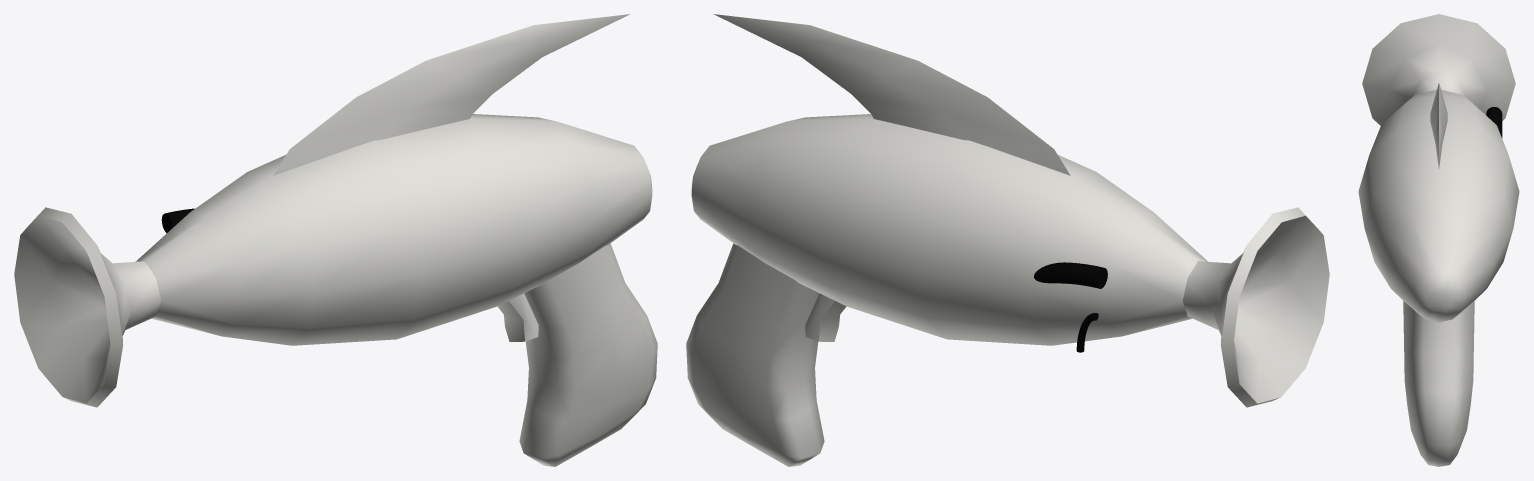
File: gun.glb
3 views of the same model, side by side, from view 1: azimuth 30°, elevation 25°; view 2: azimuth 150°, elevation 25°; view 3: azimuth 270°, elevation 25° (orthographic). The views are drawn at different scales.
Parts seen in each view (by area): view 1: node_id53, node_id51, node_id47, node_id49; view 2: node_id53, node_id51, node_id47, node_id49, mesh_id29; view 3: node_id53, node_id47, node_id51, node_id49, mesh_id29.
Boxes of the visible parts, <box> form: node_id53: <box>135,114,652,345</box>; node_id51: <box>497,243,657,466</box>; node_id47: <box>14,207,160,407</box>; node_id49: <box>273,14,630,175</box>; node_id53: <box>691,114,1208,345</box>; node_id51: <box>686,243,846,466</box>; node_id47: <box>1183,207,1329,407</box>; node_id49: <box>713,14,1070,175</box>; mesh_id29: <box>1034,262,1107,288</box>; node_id53: <box>1358,89,1519,322</box>; node_id47: <box>1362,14,1515,125</box>; node_id51: <box>1403,301,1474,466</box>; node_id49: <box>1430,83,1447,168</box>; mesh_id29: <box>1486,107,1502,138</box>.
Bounding box in the file's own units: 0.512 × 0.3682 × 0.1634.
6 materials, 4 textured.
